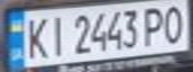2: (69, 10, 93, 56)
3: (121, 6, 142, 48)
4: (106, 7, 127, 52), (90, 8, 109, 53)
I: (45, 11, 69, 57)
K: (21, 14, 51, 61)
O: (160, 2, 190, 45)
P: (139, 3, 169, 47)
